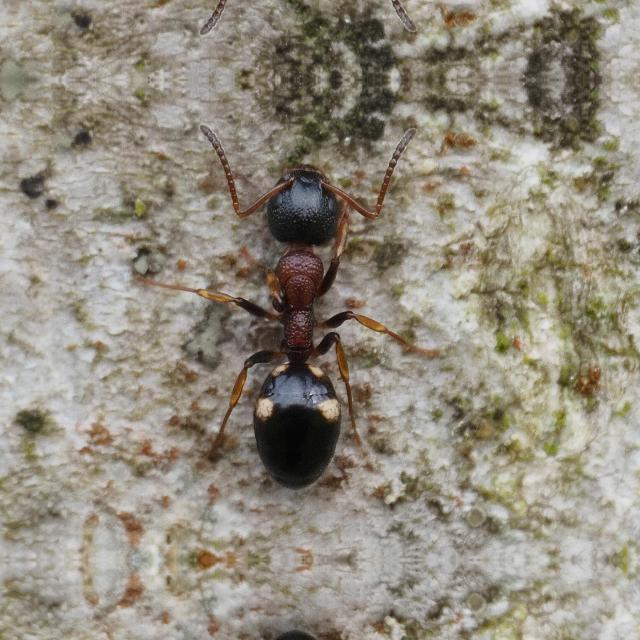Dolichoderus: (164, 130, 418, 503)
